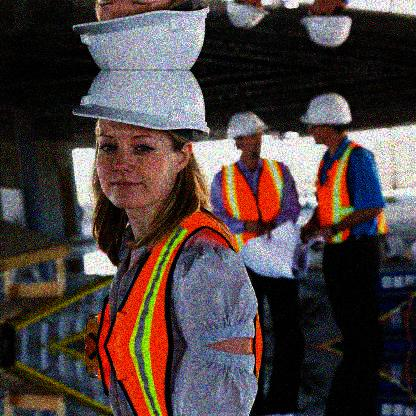helmet: (72, 68, 212, 209), (299, 92, 352, 143), (226, 112, 270, 161)
